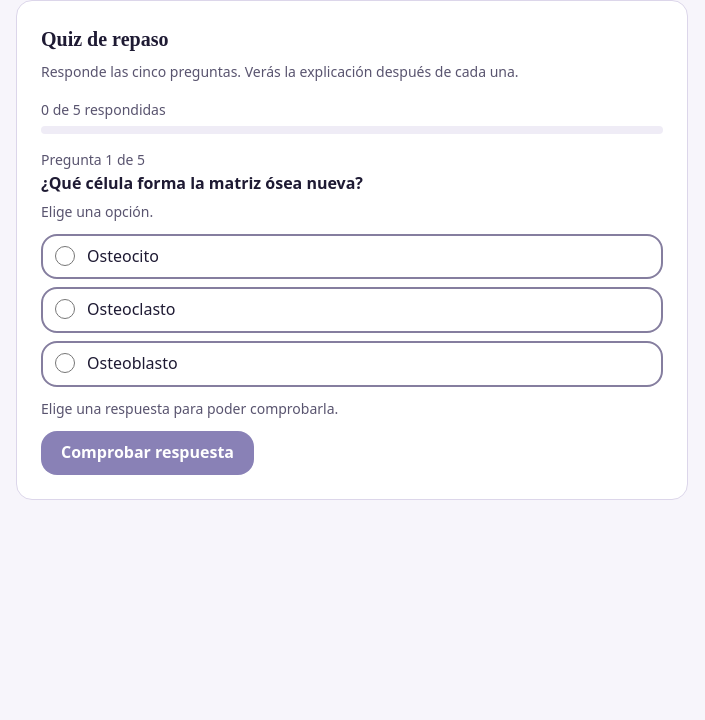
Test case: ActividadQuiz: retroalimentación inmediata tras cada pregunta › respuesta parcial en opción múltiple: "Parcialmente correcto" y el detalle de aciertos
What coordinates should you click on to do the following:
click the radio button labelled "Osteoblasto"
I would click on:
 (65, 363)
Its box is [55,353,75,373].
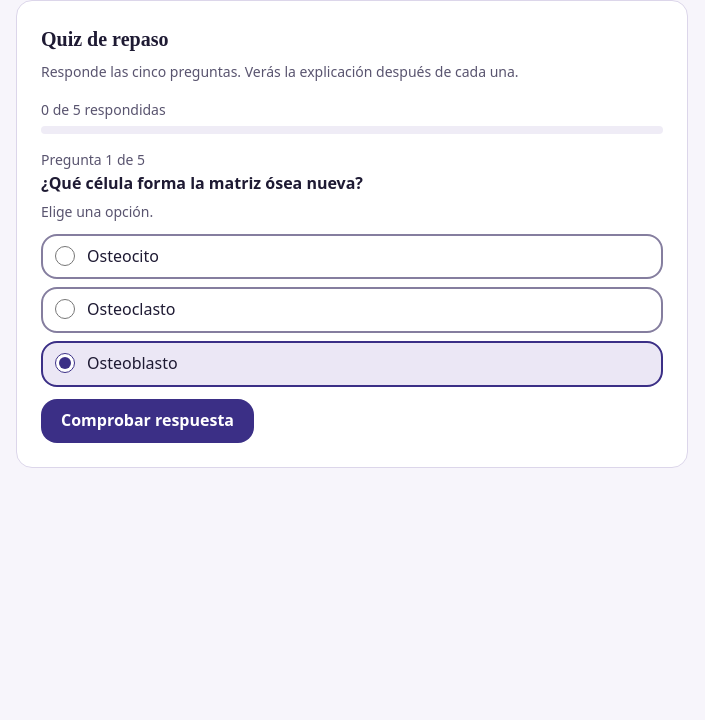
What coordinates should you click on to do the following:
click the button "Comprobar respuesta"
I would click on:
 (148, 420)
Its box is [41,398,254,442].
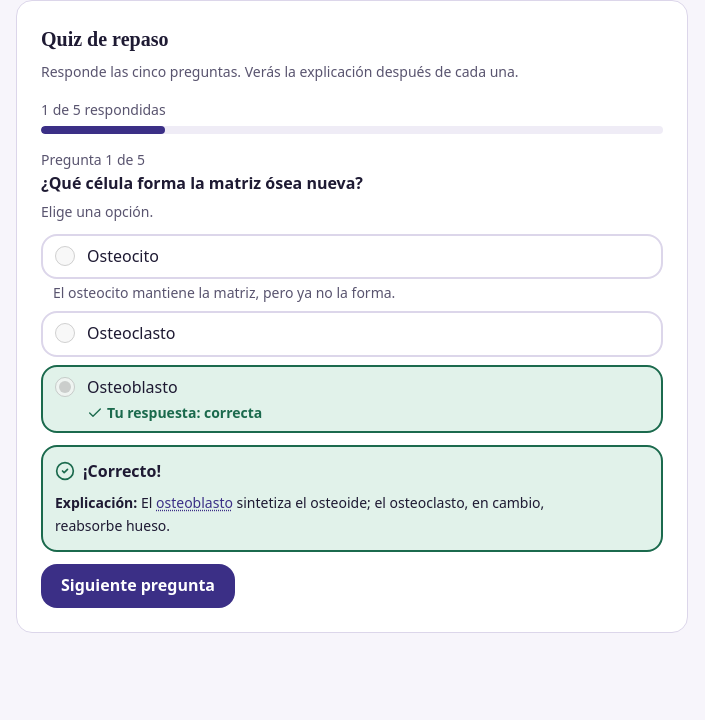
What coordinates should you click on to do the following:
click the button "Siguiente pregunta"
I would click on:
 (138, 586)
Its box is [41,564,235,608].
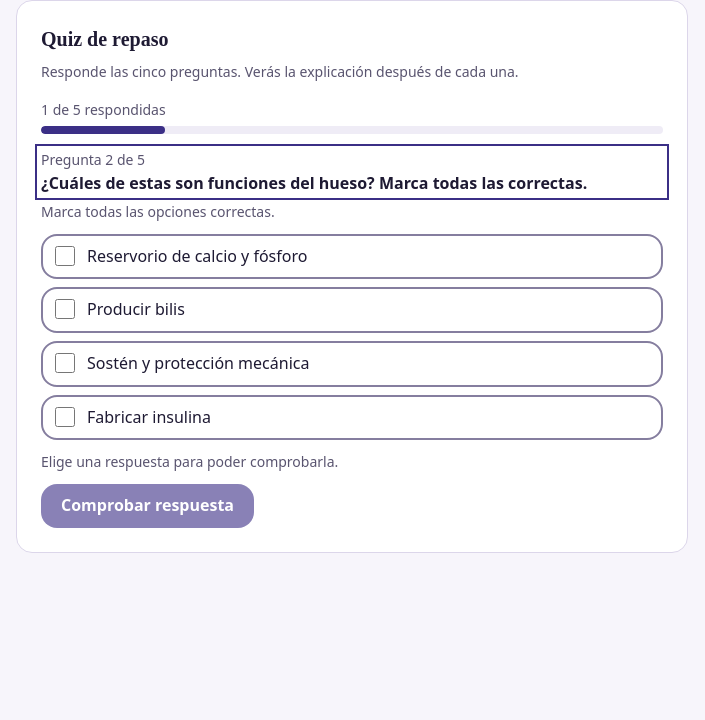
What coordinates should you click on to do the following:
click the checkbox labelled "Sostén y protección mecánica"
I would click on:
 (65, 363)
Its box is [55,353,75,373].
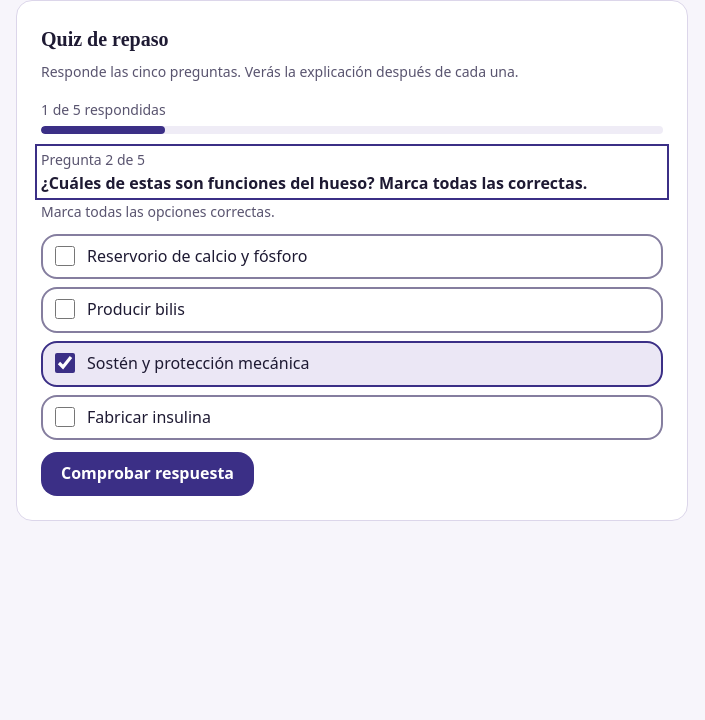
What coordinates should you click on to do the following:
click the button "Comprobar respuesta"
I would click on:
 (148, 474)
Its box is [41,452,254,496].
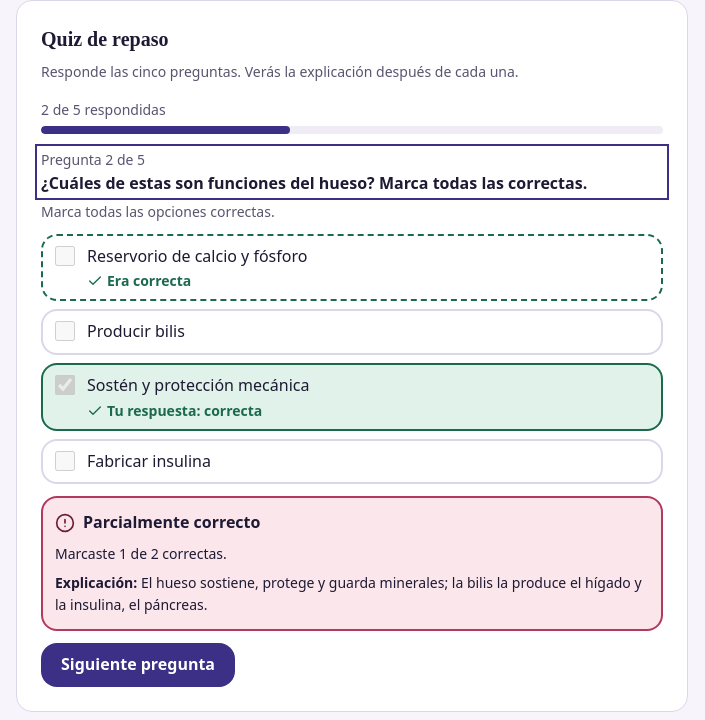
Check: the text "Era correcta" is shown, box [87,271,191,290]
